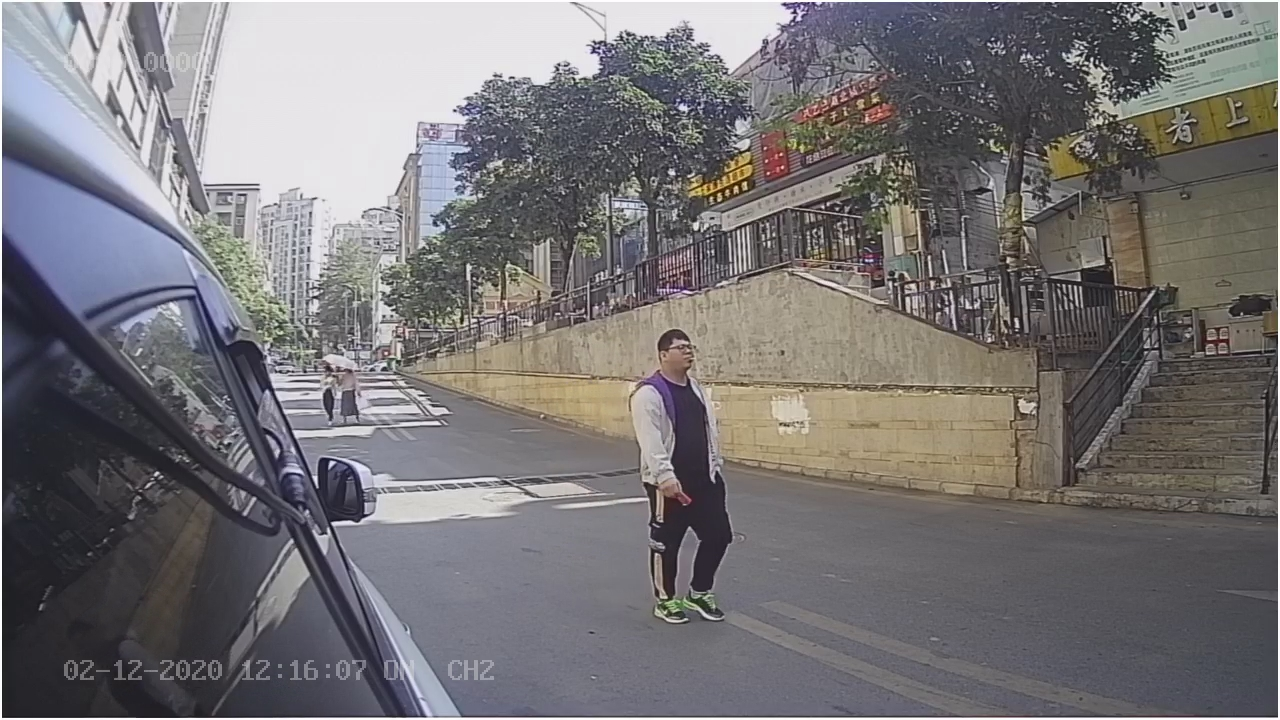person: (622, 321, 748, 624)
